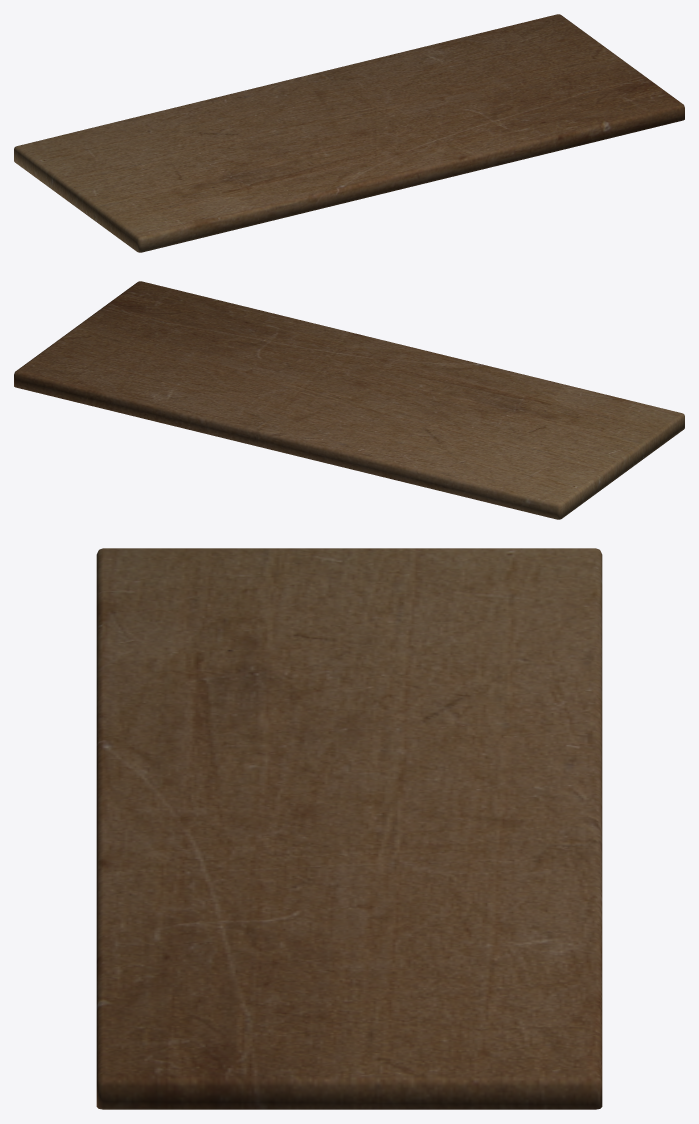
The model's file is Basic_Base.fbx.
3 views of the same model, one above another, from view 1: azimuth 30°, elevation 25°; view 2: azimuth 150°, elevation 25°; view 3: azimuth 270°, elevation 25° (orthographic). The views are drawn at different scales.
Visible parts, largest first — view 1: Basic_Base; view 2: Basic_Base; view 3: Basic_Base.
Part boxes in pixels (box(x1,y1,x2,y2)): Basic_Base: box(14, 14, 684, 252); Basic_Base: box(14, 281, 684, 519); Basic_Base: box(96, 548, 602, 1109).
Size of the model in its own units: 17.57 by 0.4581 by 7.03.
